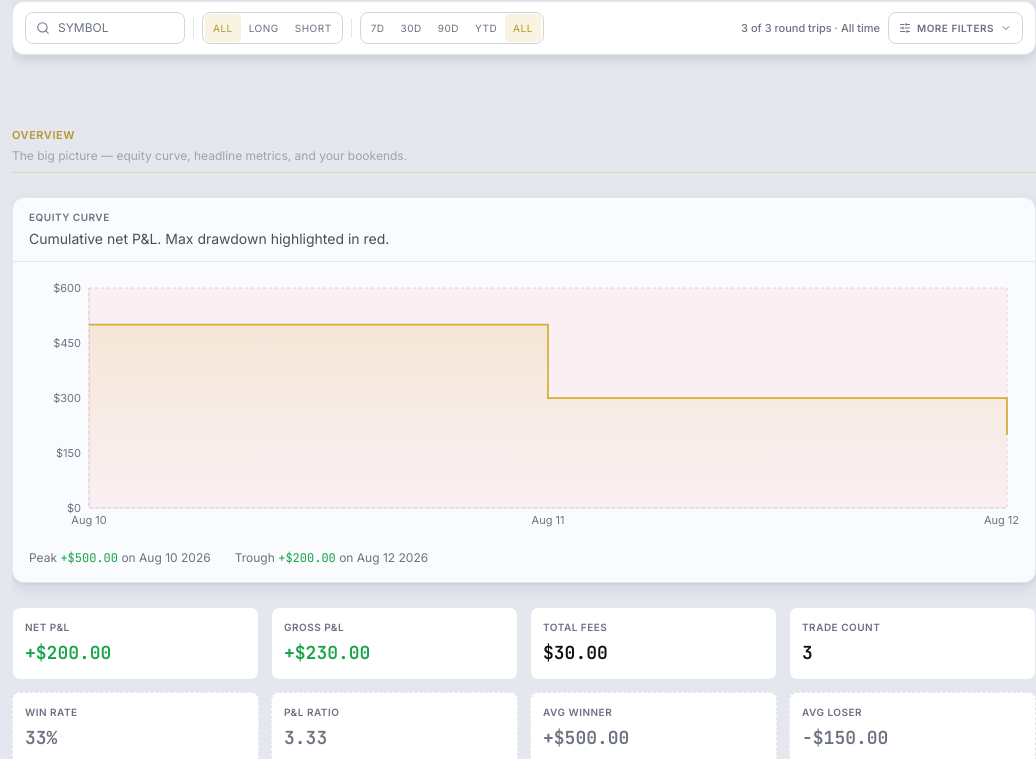
Scenario: T6 the round-trip count reflects the FILTERED count, not the book › a filter that matches nothing says zero rather than going quiet
Type "ZZZZ" into the field with placeholder "Symbol" at (116, 28), box [58, 20, 174, 36]
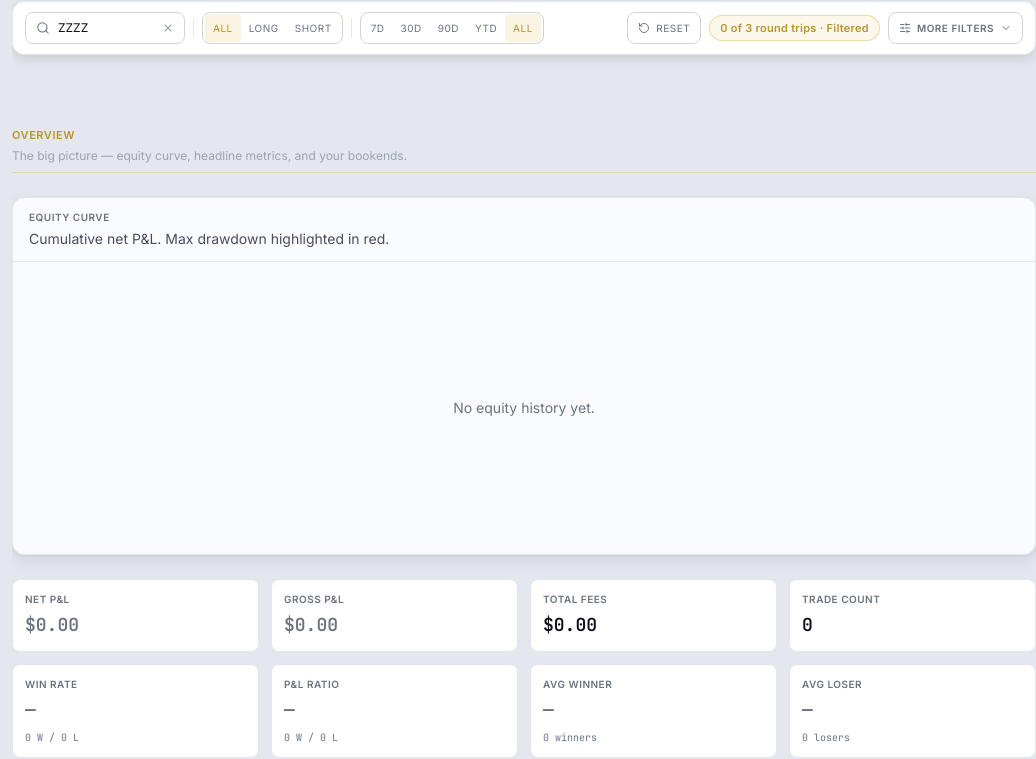
Expected: the text "0 of 3 round trips" is shown, [720, 21, 869, 35]
